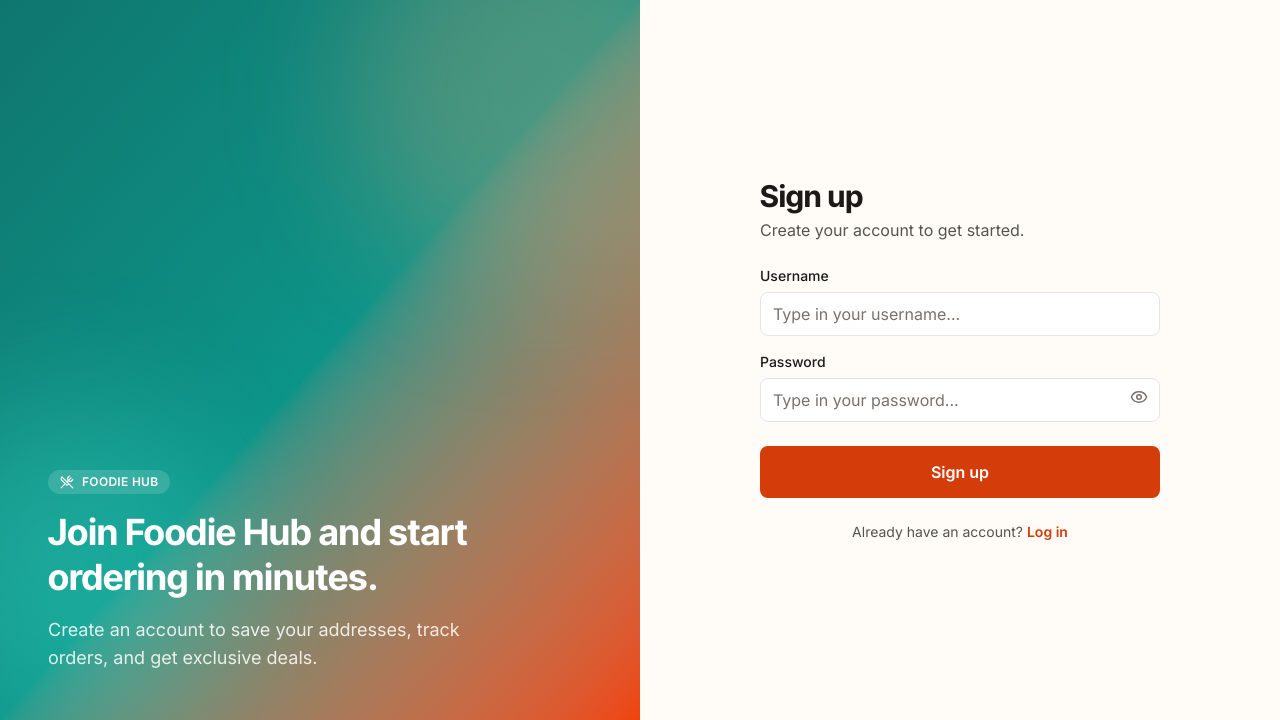
auth components tests › sign up  component › Checking if username is already taken
Type "testuser" into the field labelled "Username" at (960, 314), box [760,292,1160,336]
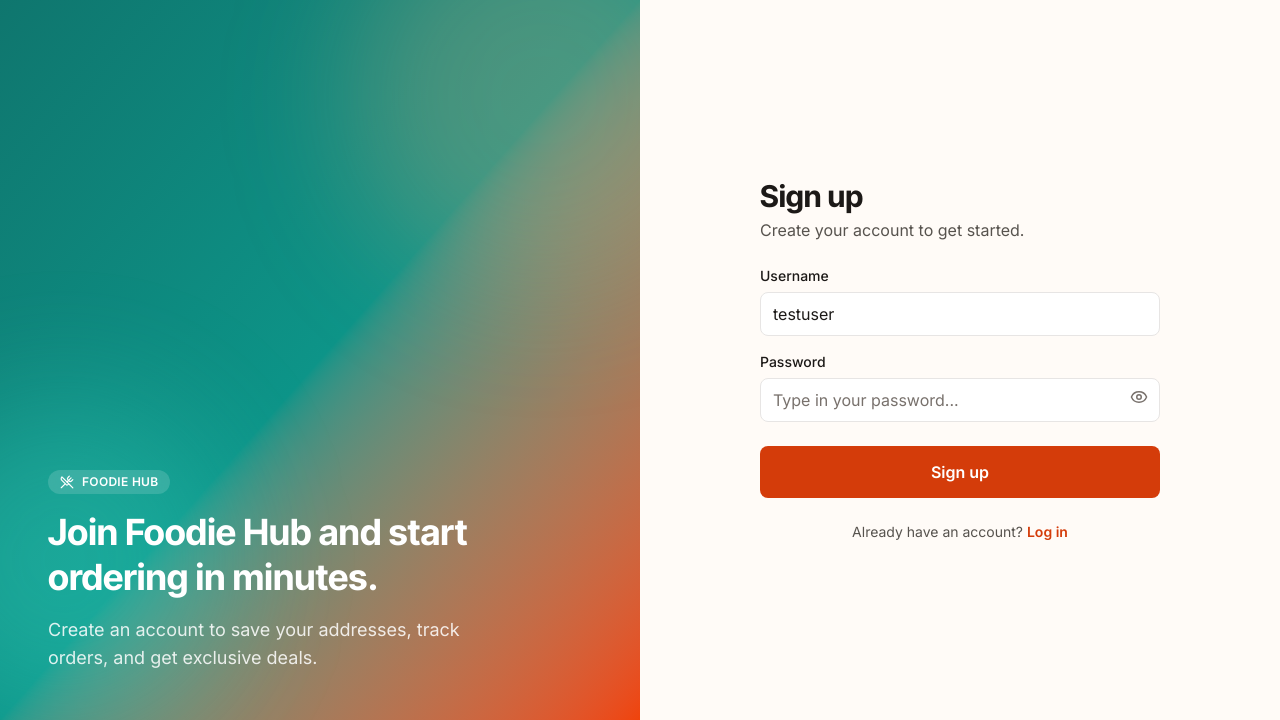
Type "12345678Bb" into the password field labelled "Password" at (960, 400), box [760,378,1160,422]
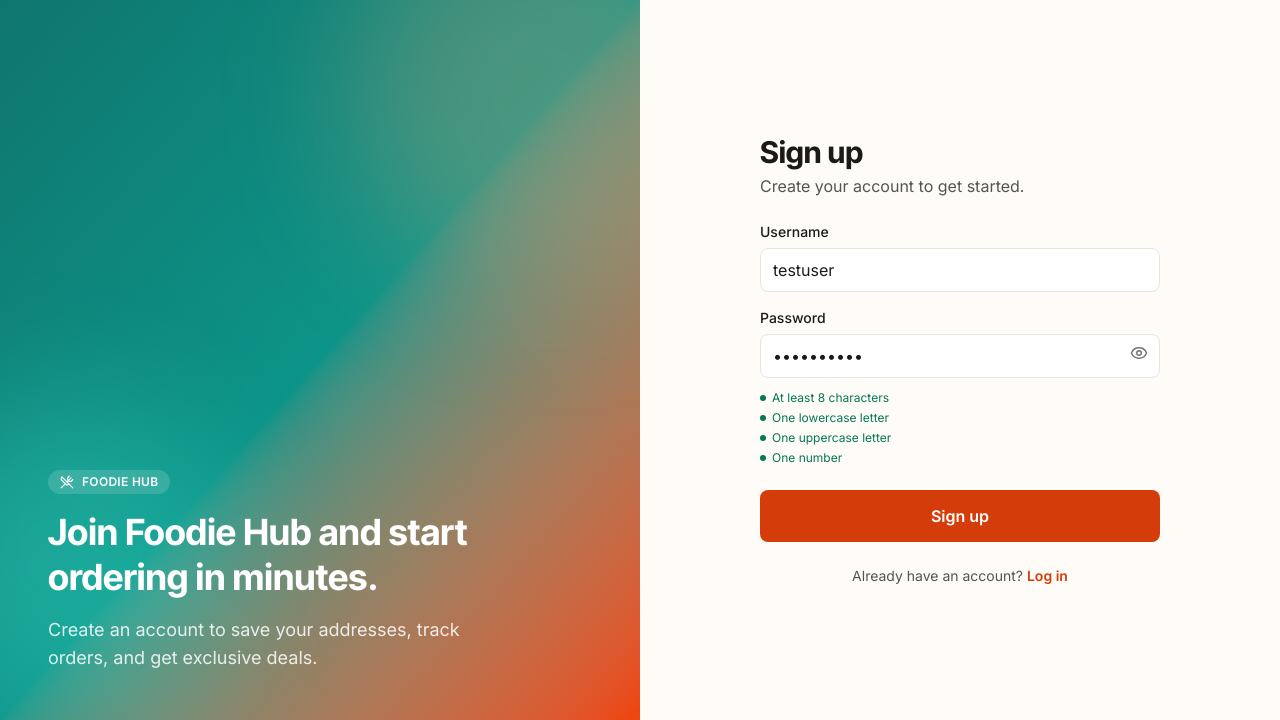
Click the button "Sign up" at (960, 516), box [760,490,1160,542]
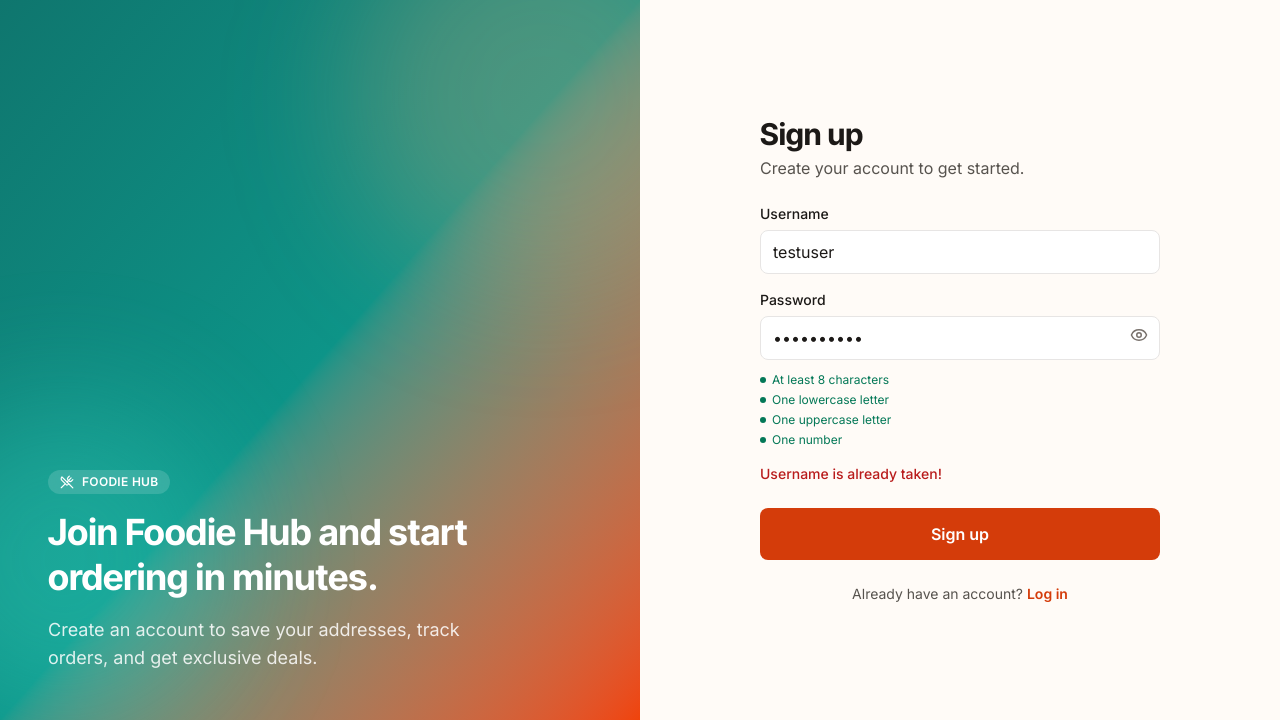
Now the text "Username is already taken!" is shown, box [760,465,942,482]
